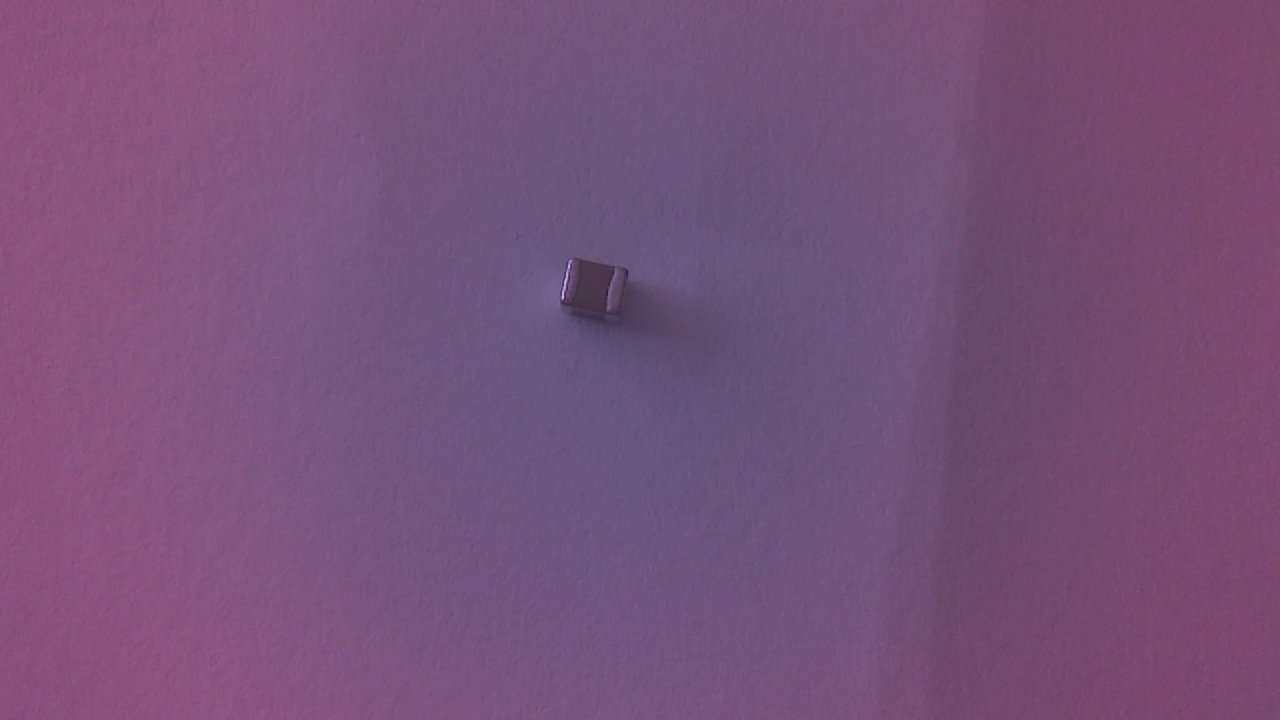Condensator: (558, 255, 637, 331)
